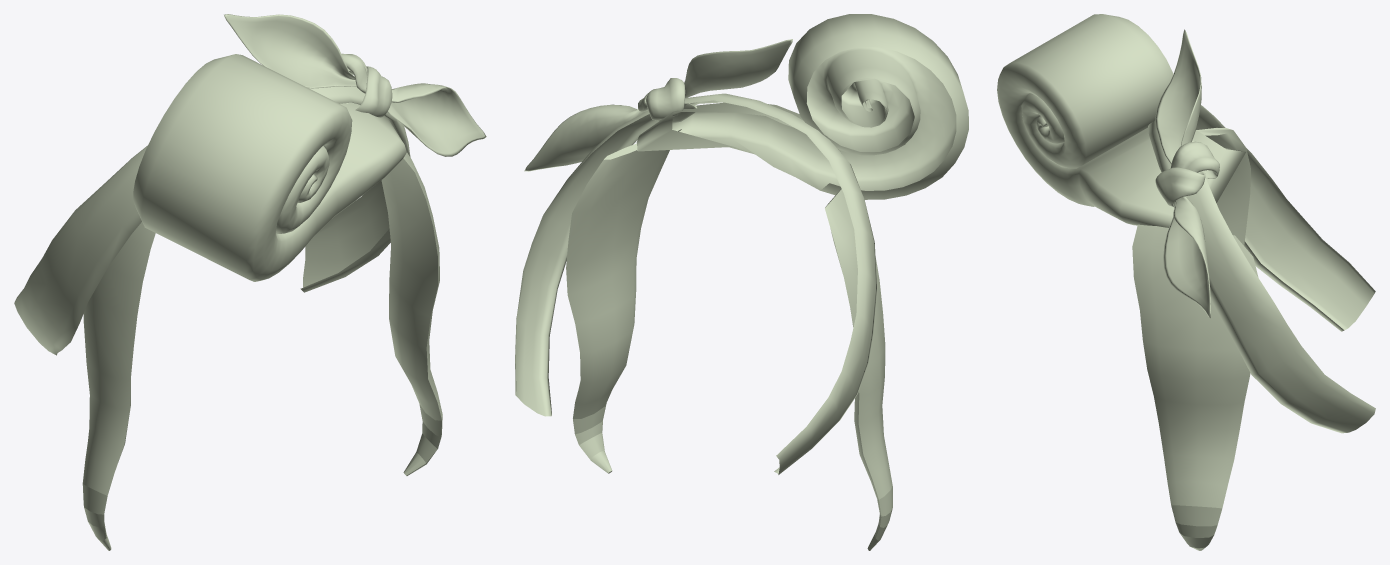
Rendered from hair.fbx.
The picture shows the model from 3 angles, left to right: view 1: azimuth 30°, elevation 25°; view 2: azimuth 150°, elevation 25°; view 3: azimuth 270°, elevation 25°; orthographic projection. The views are drawn at different scales.
Parts seen in each view (by area): view 1: forelock, band, hair_2, hair_1; view 2: forelock, band, hair_1, hair_2; view 3: band, forelock, hair_1, hair_2.
Part boxes in pixels (left/top/right/bottom): forelock: left=133, top=54, right=406, bottom=281; band: left=14, top=14, right=486, bottom=355; hair_2: left=82, top=222, right=155, bottom=550; hair_1: left=381, top=152, right=442, bottom=475; forelock: left=636, top=14, right=968, bottom=199; band: left=515, top=39, right=876, bottom=474; hair_1: left=566, top=129, right=681, bottom=473; hair_2: left=825, top=189, right=892, bottom=550; band: left=1148, top=29, right=1375, bottom=433; forelock: left=997, top=14, right=1245, bottom=227; hair_1: left=1132, top=224, right=1258, bottom=550; hair_2: left=1197, top=128, right=1250, bottom=245.
Bounding box in the file's own units: 244 × 295 × 225.
